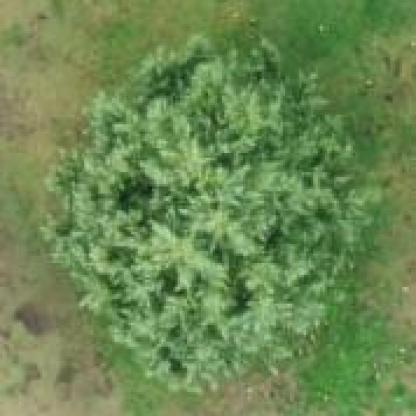Coniferous Tree: (40, 26, 358, 373)
